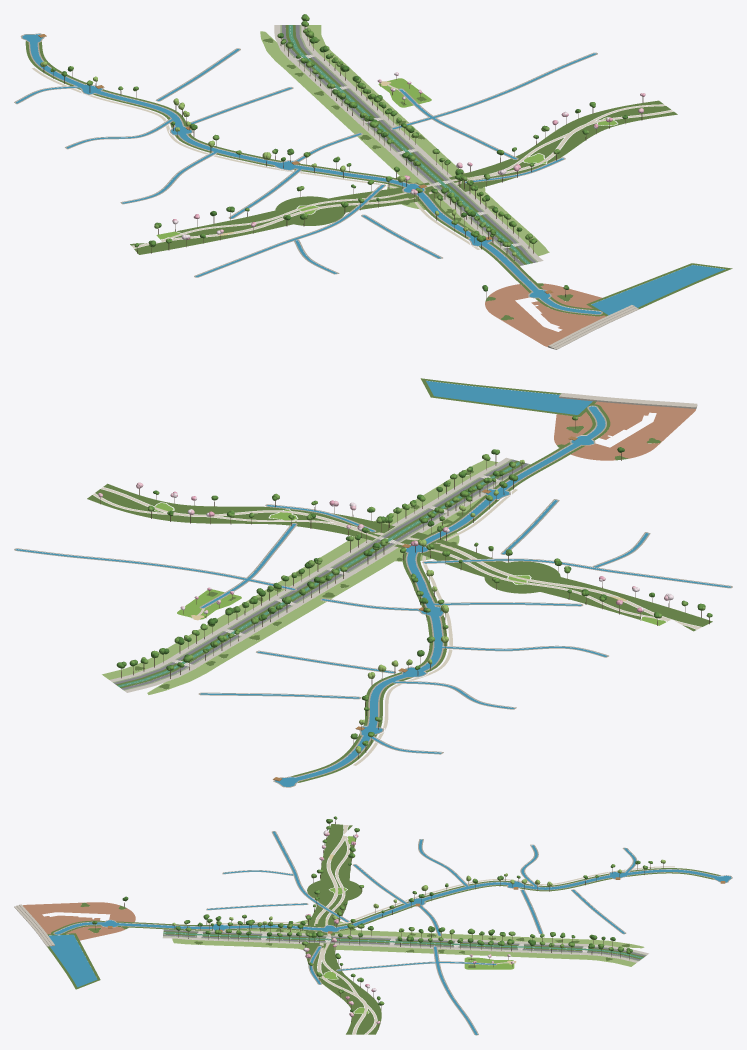
Rendered from freiraum.glb.
3 views of the same model, one above another, from view 1: azimuth 30°, elevation 25°; view 2: azimuth 150°, elevation 25°; view 3: azimuth 270°, elevation 25° (orthographic). The views are drawn at different scales.
Parts seen in each view (by area): view 1: fl_beet_0.08, baeume_detail, fl_wasser_-0.25, fl_ufersteine_0.116, fl_wiese_0.032, fl_platzpflaster_0.056, fl_pflaster_0.05, fl_kies_0.068, fl_wasser_-0.001, fl_asphalt_0.044, fl_rasen_0.062, fl_rasengitter_0.038 (+1 smaller); view 2: fl_beet_0.08, baeume_detail, fl_wasser_-0.25, fl_ufersteine_0.116, fl_wiese_0.032, fl_platzpflaster_0.056, fl_pflaster_0.05, fl_kies_0.068, fl_asphalt_0.044, fl_wasser_-0.001, fl_rasengitter_0.038, fl_rasen_0.062 (+1 smaller); view 3: fl_beet_0.08, fl_wasser_-0.25, baeume_detail, fl_ufersteine_0.116, fl_wiese_0.032, fl_platzpflaster_0.056, fl_pflaster_0.05, fl_kies_0.068, fl_asphalt_0.044, fl_wasser_-0.001, fl_radweg_0.086, fl_rasengitter_0.038 (+1 smaller).
Part boxes in pixels (bbox=[...]): fl_beet_0.08: bbox=[25, 25, 732, 320]; baeume_detail: bbox=[40, 14, 645, 298]; fl_wasser_-0.25: bbox=[16, 34, 601, 314]; fl_ufersteine_0.116: bbox=[14, 33, 602, 314]; fl_wiese_0.032: bbox=[260, 25, 549, 256]; fl_platzpflaster_0.056: bbox=[485, 283, 605, 346]; fl_pflaster_0.05: bbox=[274, 25, 543, 261]; fl_kies_0.068: bbox=[32, 68, 673, 249]; fl_wasser_-0.001: bbox=[591, 265, 725, 315]; fl_asphalt_0.044: bbox=[282, 25, 536, 265]; fl_rasen_0.062: bbox=[156, 78, 617, 239]; fl_rasengitter_0.038: bbox=[280, 25, 537, 265]; fl_beet_0.08: bbox=[87, 378, 712, 782]; baeume_detail: bbox=[98, 416, 712, 758]; fl_wasser_-0.25: bbox=[15, 406, 730, 786]; fl_ufersteine_0.116: bbox=[14, 405, 732, 787]; fl_wiese_0.032: bbox=[102, 460, 513, 694]; fl_platzpflaster_0.056: bbox=[554, 401, 695, 460]; fl_pflaster_0.05: bbox=[109, 457, 510, 692]; fl_kies_0.068: bbox=[93, 487, 701, 765]; fl_asphalt_0.044: bbox=[114, 459, 528, 689]; fl_wasser_-0.001: bbox=[426, 380, 592, 414]; fl_rasengitter_0.038: bbox=[113, 459, 530, 690]; fl_rasen_0.062: bbox=[154, 503, 665, 625]; fl_beet_0.08: bbox=[47, 824, 720, 1034]; fl_wasser_-0.25: bbox=[54, 831, 731, 1034]; baeume_detail: bbox=[92, 816, 665, 1029]; fl_ufersteine_0.116: bbox=[53, 831, 732, 1035]; fl_wiese_0.032: bbox=[172, 919, 644, 966]; fl_platzpflaster_0.056: bbox=[23, 902, 135, 940]; fl_pflaster_0.05: bbox=[162, 930, 648, 962]; fl_kies_0.068: bbox=[206, 825, 674, 1034]; fl_asphalt_0.044: bbox=[163, 930, 645, 960]; fl_wasser_-0.001: bbox=[48, 934, 97, 987]; fl_radweg_0.086: bbox=[163, 932, 643, 958]; fl_rasengitter_0.038: bbox=[163, 929, 646, 960].
Bounding box in the file's own units: 545 × 15.23 × 780.
